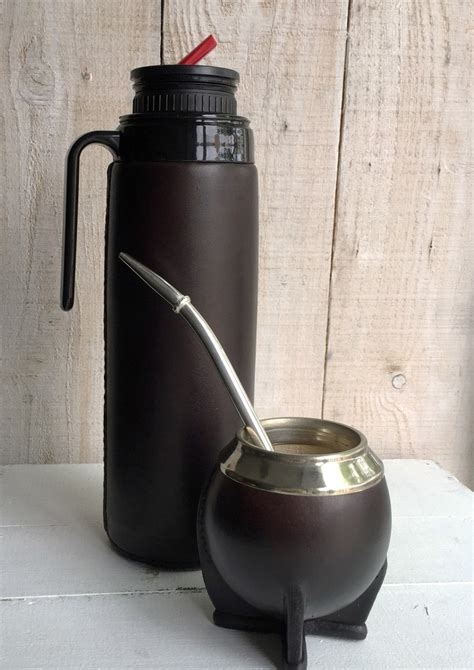cuero: (196, 465, 393, 670)
